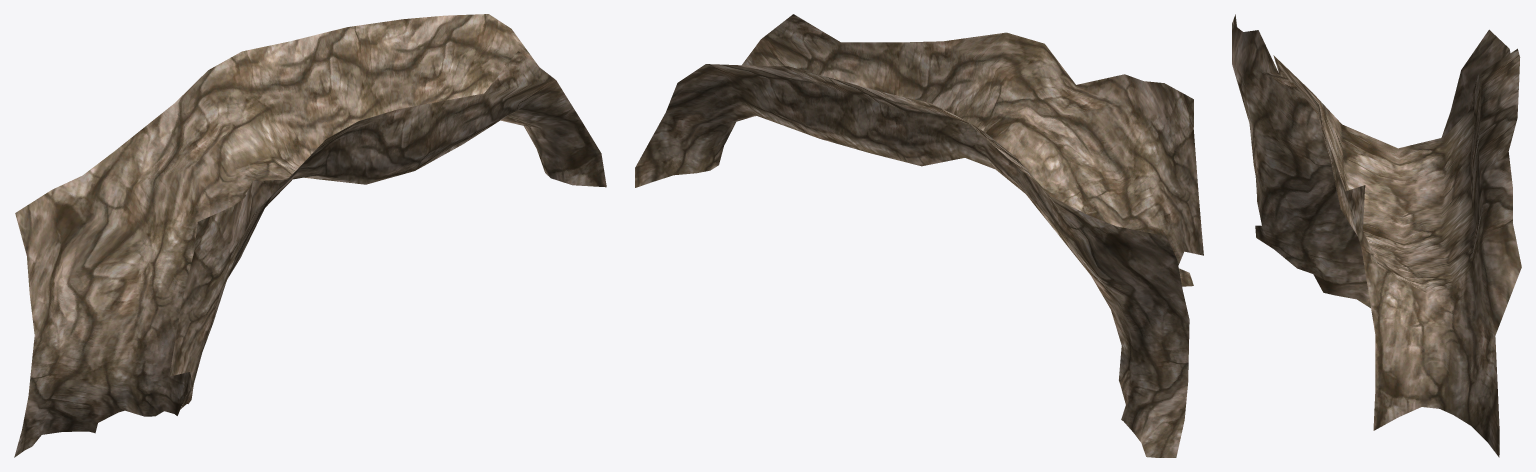
File: EKH_THRONE_PS_TH_CURVE_WALL.fbx
The picture shows the model from 3 angles, left to right: view 1: azimuth 30°, elevation 25°; view 2: azimuth 150°, elevation 25°; view 3: azimuth 270°, elevation 25°; orthographic projection. The views are drawn at different scales.
Parts seen in each view (by area): view 1: EKH_THRONE_PS_TH_CURVE_WALL; view 2: EKH_THRONE_PS_TH_CURVE_WALL; view 3: EKH_THRONE_PS_TH_CURVE_WALL.
Boxes of the visible parts, box(x1,y1,x2,y2) form: EKH_THRONE_PS_TH_CURVE_WALL: box(14, 14, 606, 457); EKH_THRONE_PS_TH_CURVE_WALL: box(635, 14, 1203, 457); EKH_THRONE_PS_TH_CURVE_WALL: box(1232, 14, 1521, 457).
Size of the model in its own units: 253889 by 141614 by 93385.
1 material, 1 textured.
